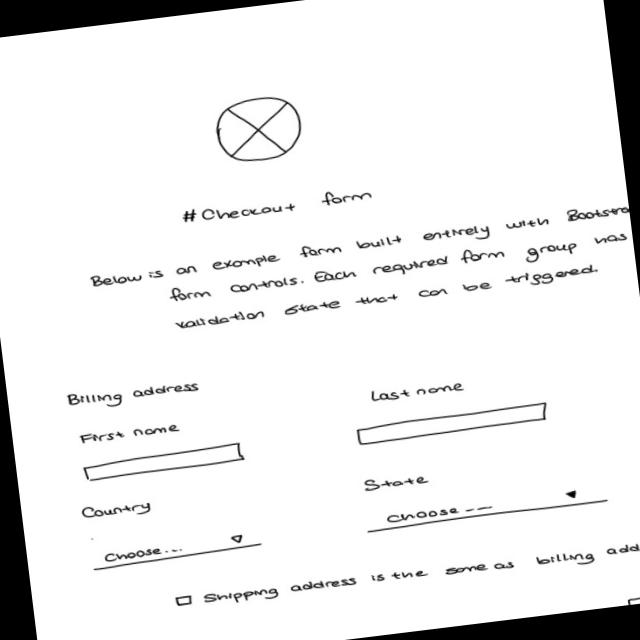button: (626, 591, 640, 606)
checkbox: (171, 534, 640, 615)
image: (212, 92, 307, 167)
input: (354, 401, 551, 449), (82, 441, 247, 483)
label: (179, 186, 375, 226), (66, 379, 202, 415), (368, 378, 472, 406), (78, 422, 185, 446), (82, 499, 156, 524), (359, 472, 431, 496)
select: (365, 486, 610, 535), (91, 530, 265, 572)
textbox: (88, 200, 638, 341)
